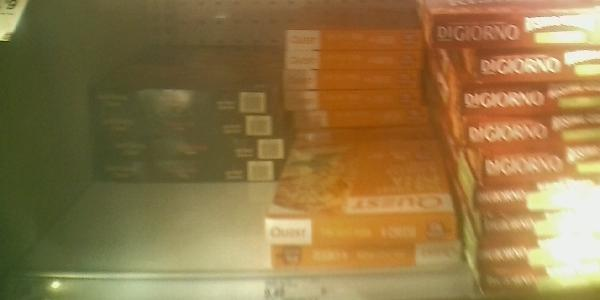pizza2: (433, 9, 598, 46), (262, 214, 457, 245), (94, 86, 274, 117), (99, 156, 273, 185), (270, 239, 460, 265), (460, 115, 600, 150), (482, 150, 600, 191), (94, 112, 280, 136), (473, 185, 600, 218), (91, 139, 281, 160), (461, 87, 599, 115), (484, 243, 599, 275), (478, 53, 598, 83), (486, 215, 598, 246), (285, 67, 423, 91), (485, 273, 599, 298), (287, 28, 425, 48), (287, 92, 419, 110), (293, 110, 433, 126), (285, 50, 423, 66)
